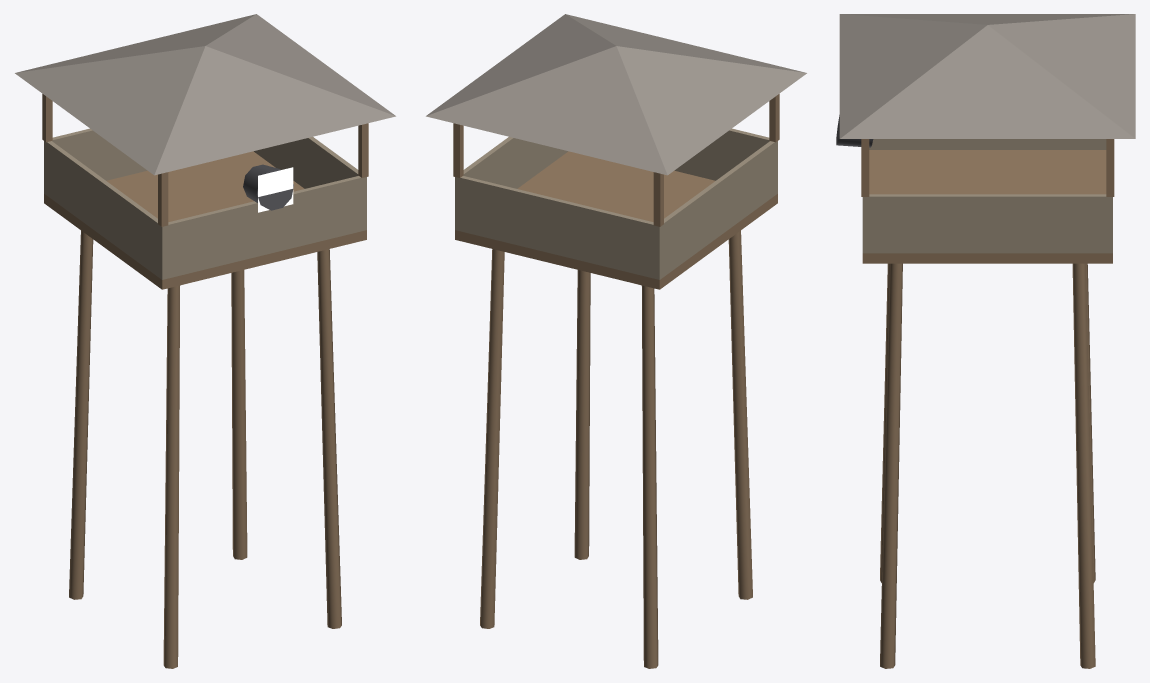
File: guard_tower.glb
3 renders of one model, left to right at view 1: azimuth 30°, elevation 25°; view 2: azimuth 150°, elevation 25°; view 3: azimuth 270°, elevation 25°, orthographic. The views are drawn at different scales.
Parts seen in each view (by area): view 1: guard_tower; view 2: guard_tower; view 3: guard_tower.
Boxes of the visible parts, bbox=[...] form: guard_tower: bbox=[15, 14, 395, 668]; guard_tower: bbox=[426, 14, 806, 668]; guard_tower: bbox=[836, 14, 1135, 668].
Size of the model in its own units: 5.2 by 11.6 by 5.26.
